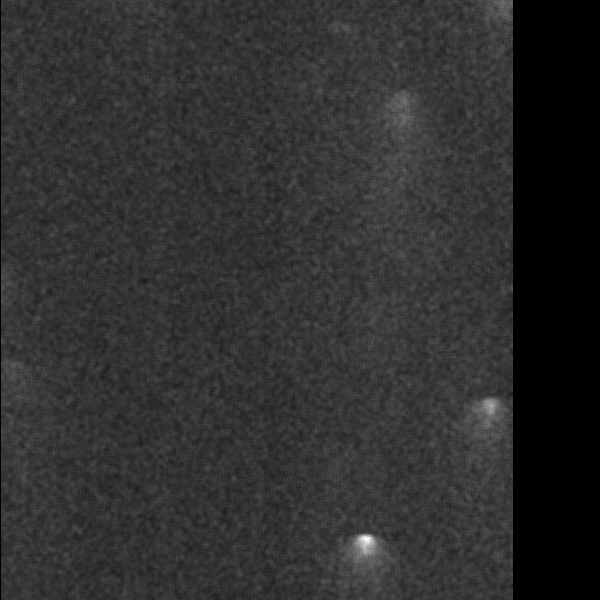spark: (377, 80, 431, 187), (469, 390, 510, 478), (341, 528, 388, 600)
